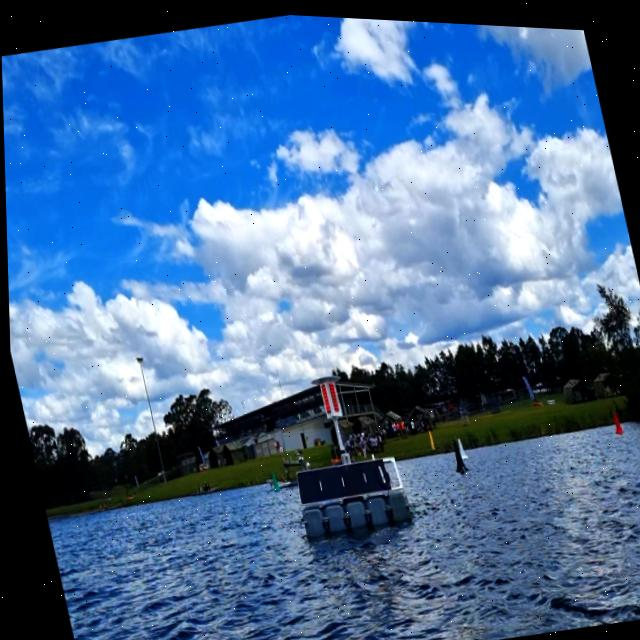led: (318, 378, 339, 414), (324, 377, 339, 413), (318, 380, 330, 412)
